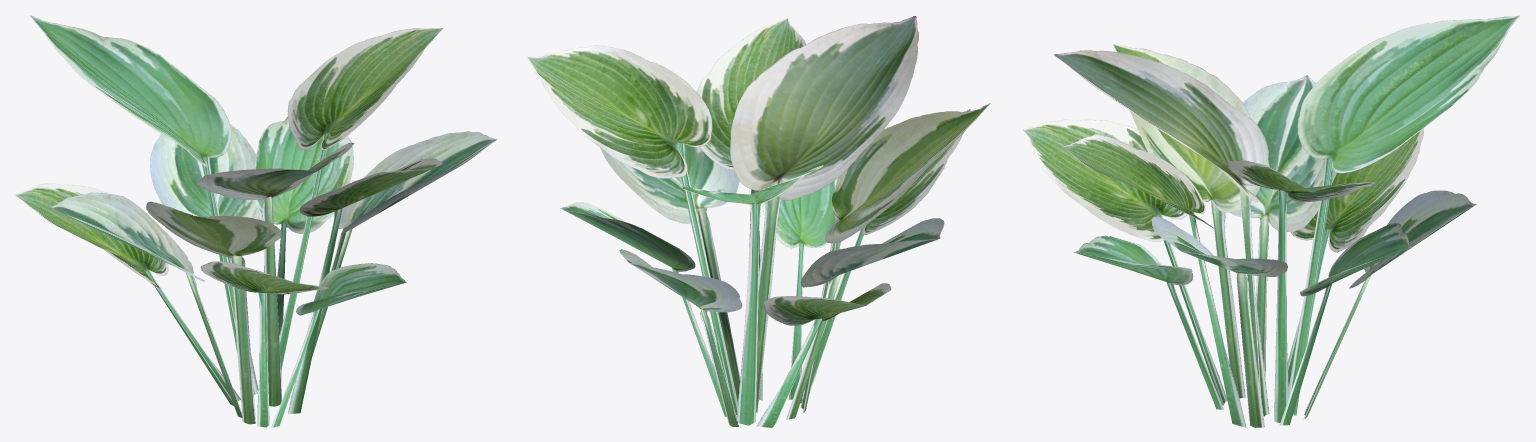
File: plant_small_wg_00V_wild.fbx
3 views of the same model, side by side, from view 1: azimuth 30°, elevation 25°; view 2: azimuth 150°, elevation 25°; view 3: azimuth 270°, elevation 25° (orthographic). The views are drawn at different scales.
Visible parts, largest first — view 1: plant_small_wg_00V_wild; view 2: plant_small_wg_00V_wild; view 3: plant_small_wg_00V_wild.
Part boxes in pixels (x1,y1,x2,y2): plant_small_wg_00V_wild: (15, 15, 496, 427); plant_small_wg_00V_wild: (527, 16, 990, 427); plant_small_wg_00V_wild: (1023, 15, 1519, 427).
Size of the model in its own units: 60.8 by 48.18 by 63.64.
